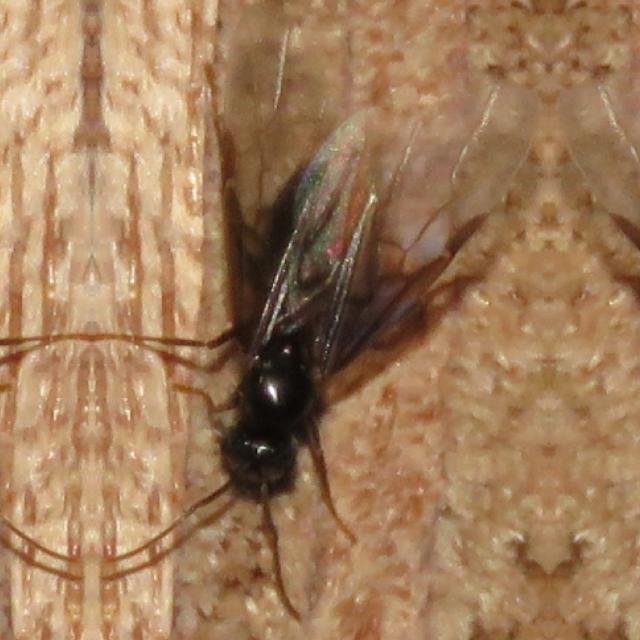Lasius: (151, 140, 473, 512)
